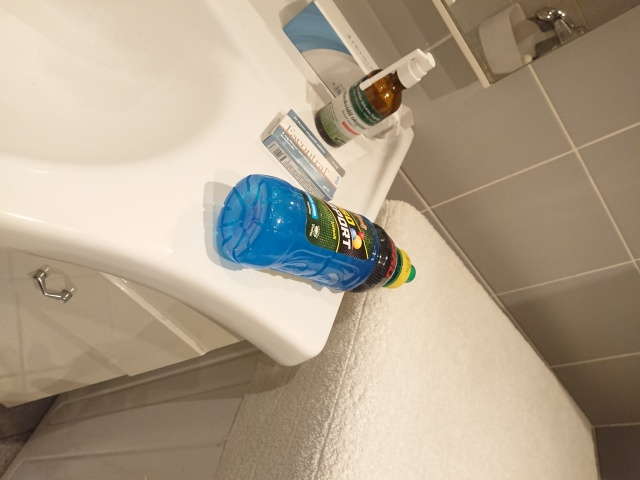Vindi Iso Sport Forest Strawberries 500mL: (215, 172, 417, 293)
